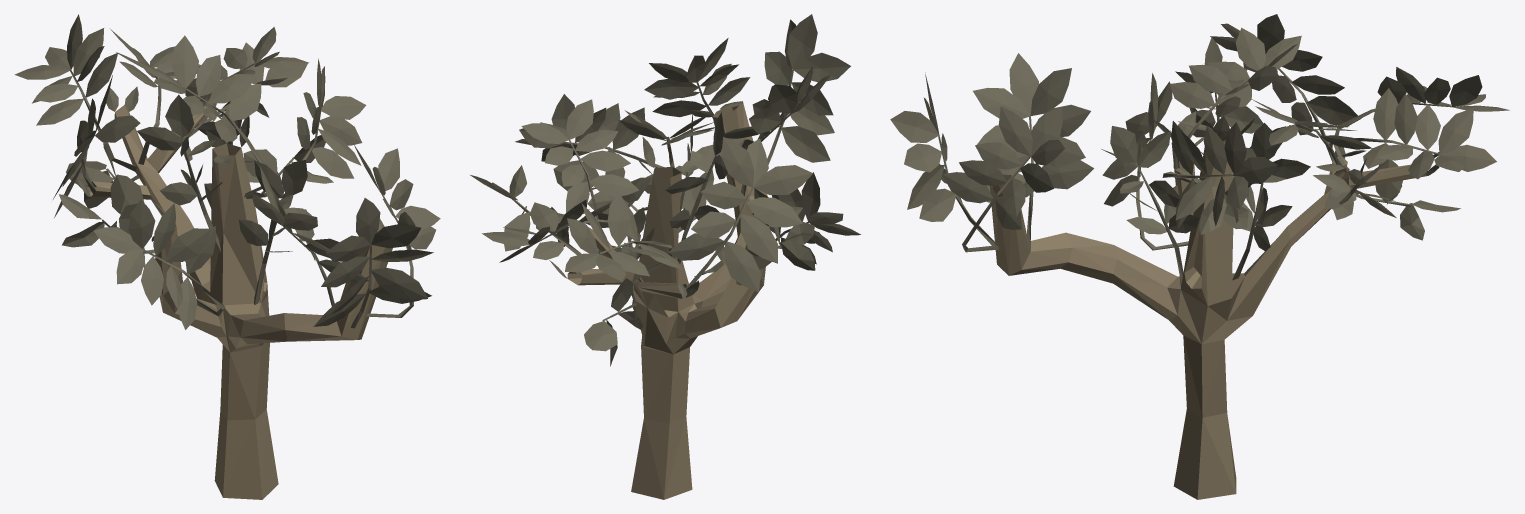
The model's file is Apple_6_1.fbx.
The picture shows the model from 3 angles, left to right: view 1: azimuth 30°, elevation 25°; view 2: azimuth 150°, elevation 25°; view 3: azimuth 270°, elevation 25°; orthographic projection. The views are drawn at different scales.
Visible parts, largest first — view 1: Apple_6_1; view 2: Apple_6_1; view 3: Apple_6_1.
Boxes of the visible parts, box(x1,y1,x2,y2) form: Apple_6_1: box(14, 14, 440, 499); Apple_6_1: box(470, 14, 860, 499); Apple_6_1: box(890, 14, 1509, 499).
Size of the model in its own units: 257 by 337 by 436.
